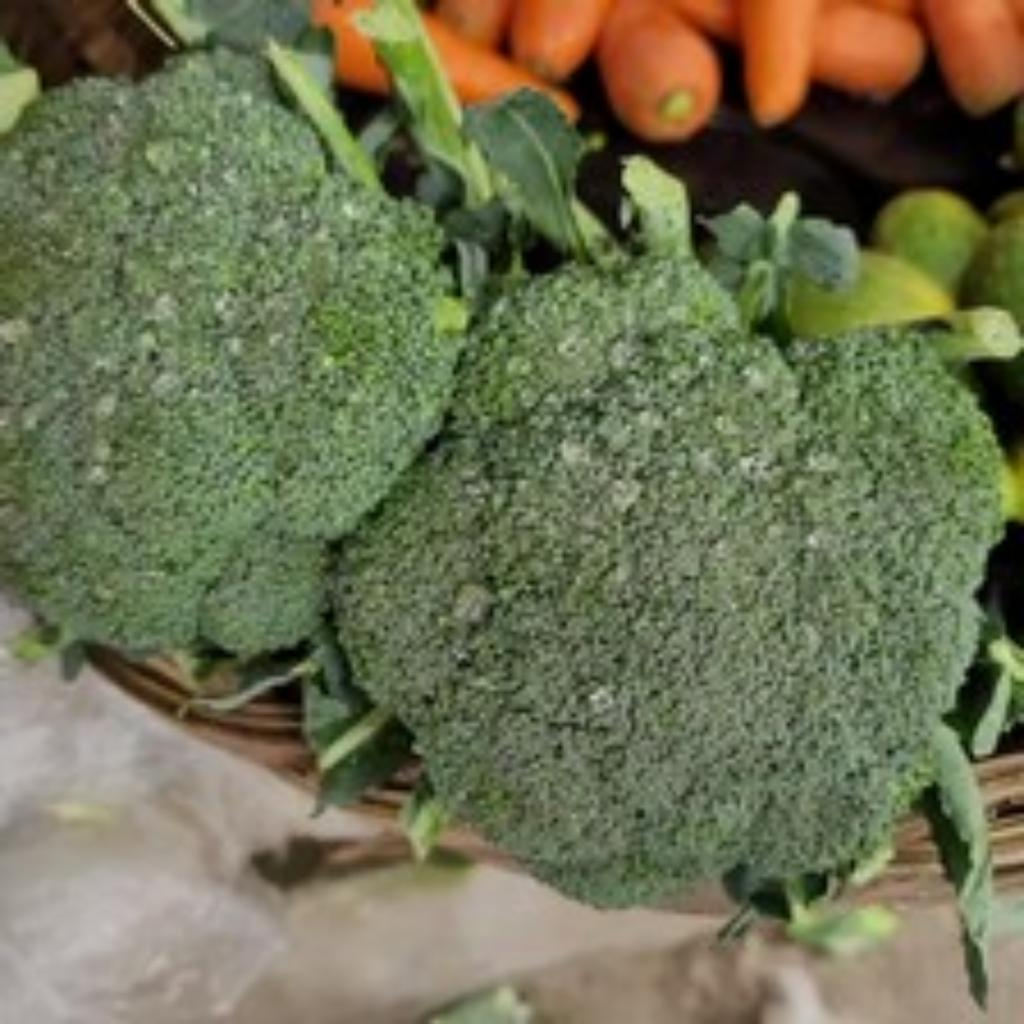Broccoli: (328, 258, 1002, 903), (336, 260, 1002, 901), (0, 50, 464, 653), (0, 50, 462, 653), (0, 58, 456, 648)
